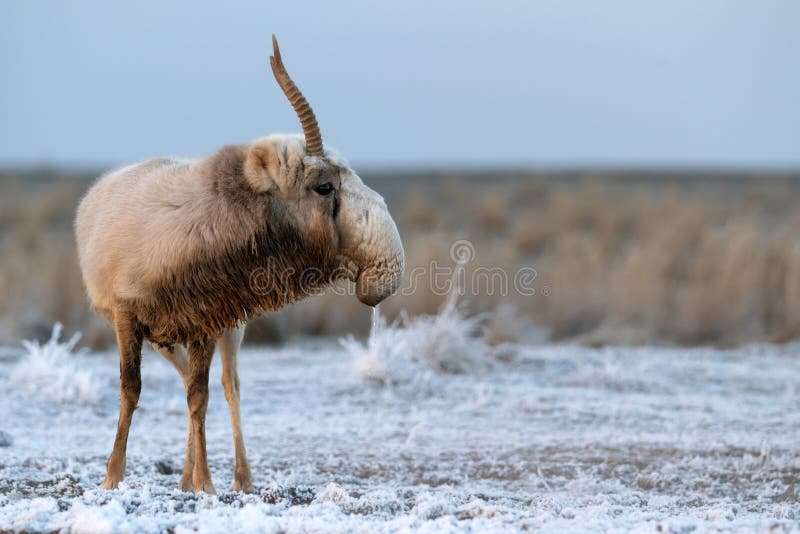saiga: (75, 31, 416, 491)
